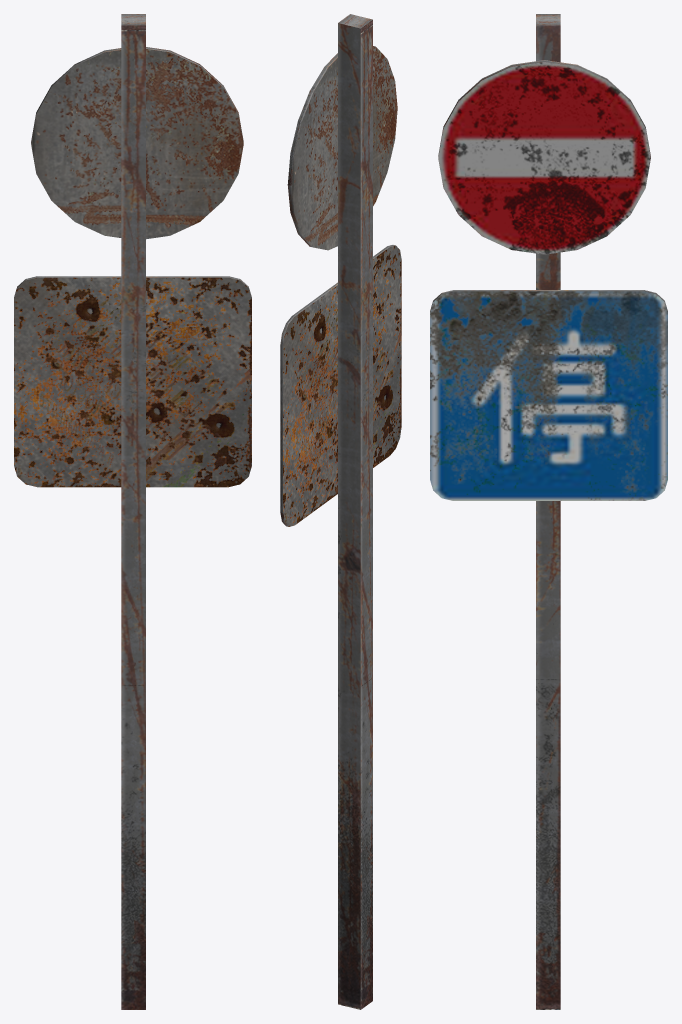
The model's file is RoadSign03.fbx.
The picture shows the model from 3 angles, left to right: view 1: azimuth 90°, elevation 25°; view 2: azimuth 150°, elevation 25°; view 3: azimuth 270°, elevation 25°; orthographic projection.
Parts seen in each view (by area): view 1: Sign02, Sign01, Pole; view 2: Pole, Sign02, Sign01; view 3: Sign02, Sign01, Pole.
Boxes of the visible parts, x1,y1,x2,y2 form: Sign02: [14, 276, 251, 487]; Sign01: [31, 47, 243, 239]; Pole: [121, 14, 145, 1009]; Pole: [338, 14, 372, 1009]; Sign02: [280, 245, 401, 526]; Sign01: [287, 46, 397, 250]; Sign02: [430, 290, 667, 500]; Sign01: [438, 60, 650, 254]; Pole: [536, 14, 560, 1009].
Size of the model in its own units: 4.77 by 160 by 34.98.
